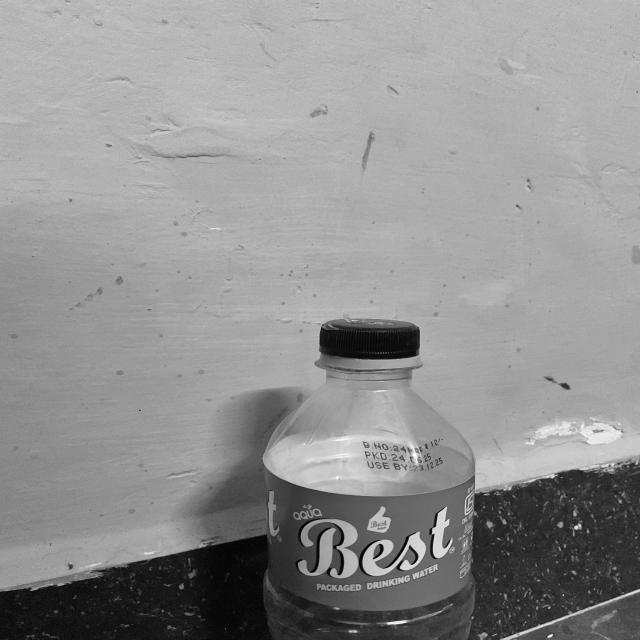Good-cap-Df0S: (316, 315, 427, 371)
